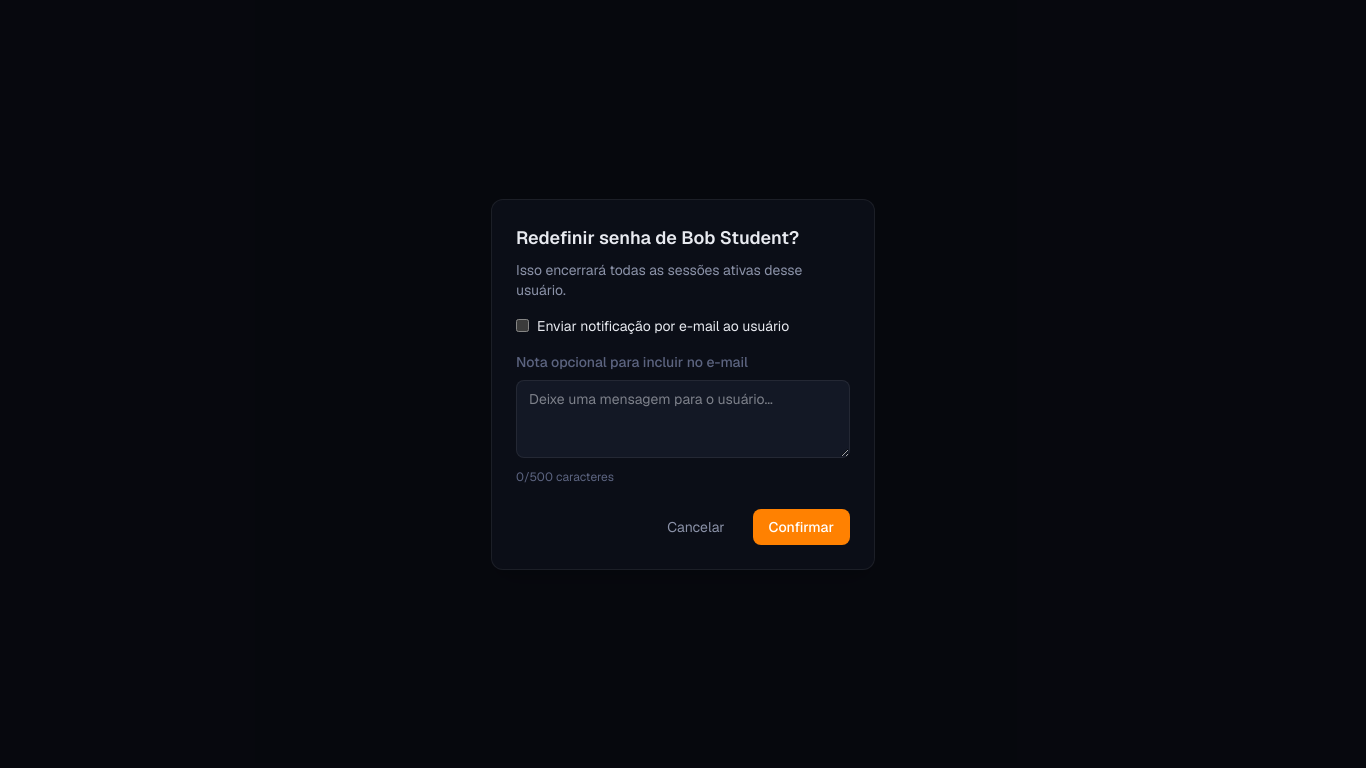
Scenario: ResetPasswordModal › success phase › displays temporary password after successful reset
Click the button "Confirmar": (801, 526) 753,508 -> 850,544
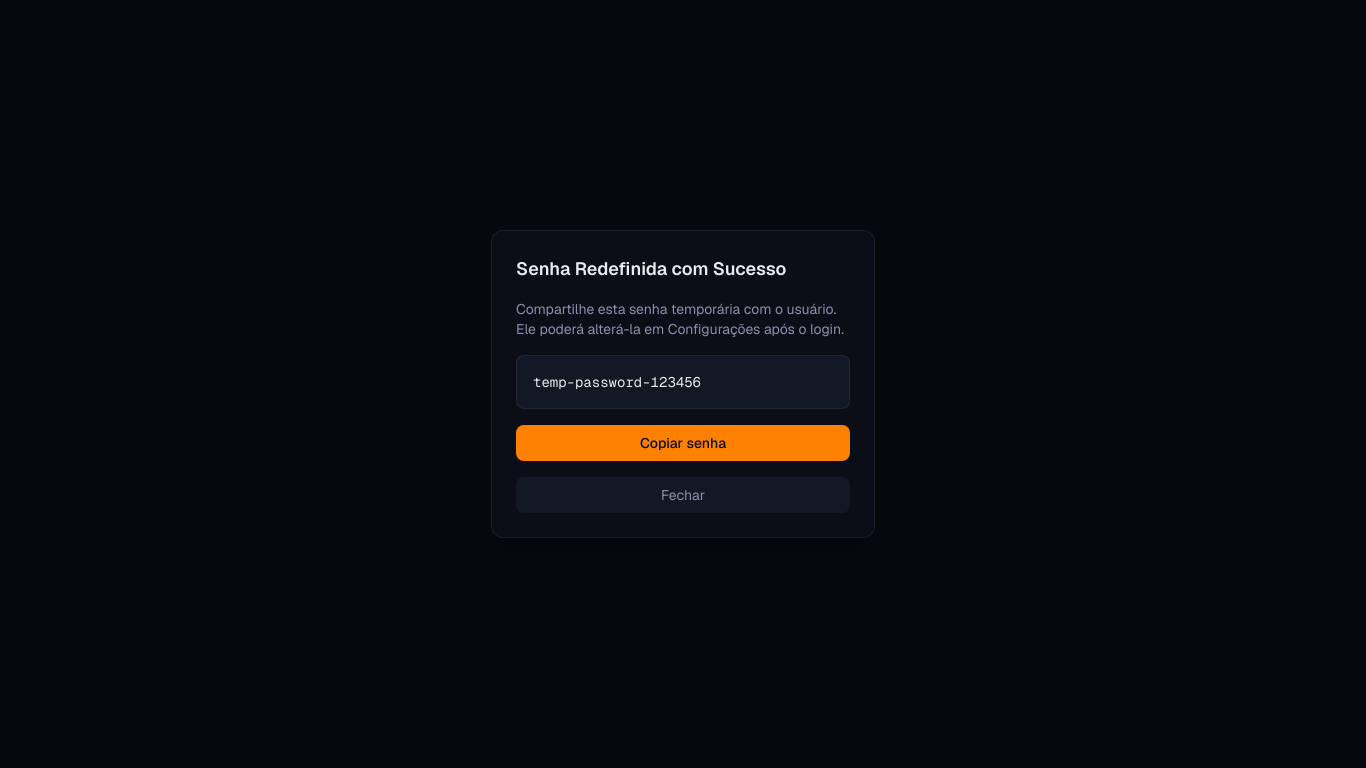
Check: the heading "Senha Redefinida com Sucesso" is shown, box 516,257 -> 786,280
Check: the text "temp-password-123456" is shown, box 516,355 -> 850,409
